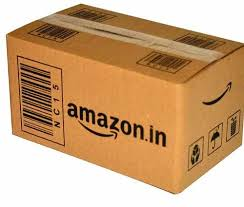undamaged: (6, 4, 243, 194)
